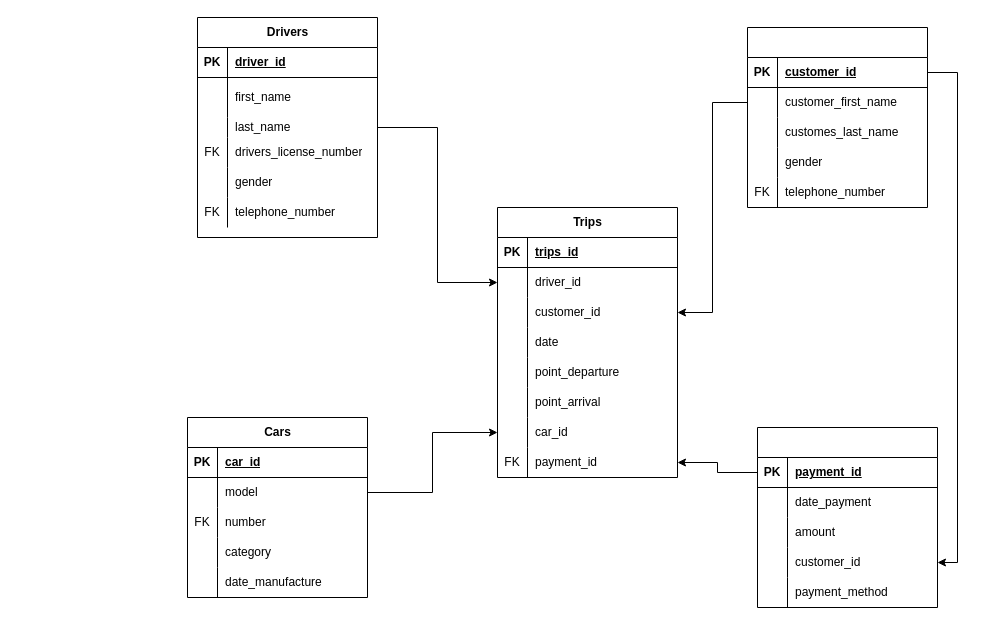
Image size: 983x625. Some labels were removed from this diagram. Here are the shapes that lost their labels. From the top down, the box of each, then its label:
(746, 26, 928, 208): Customers
(756, 426, 938, 608): Payments
